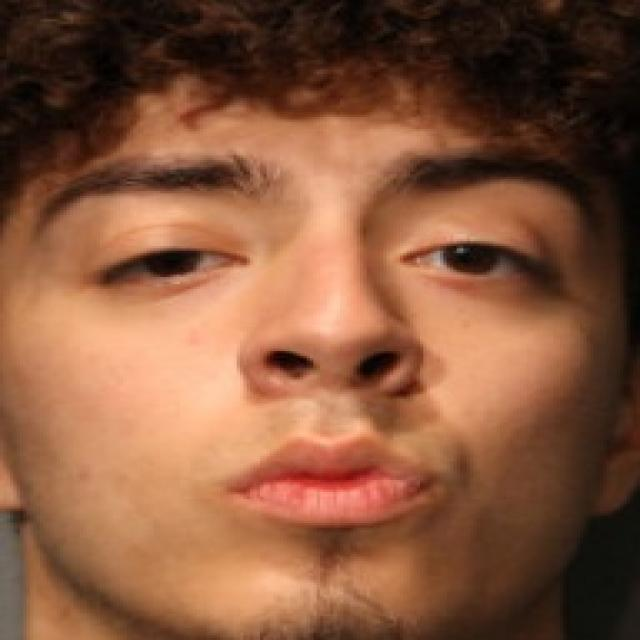0_rostro_limpio: (0, 74, 627, 635)
